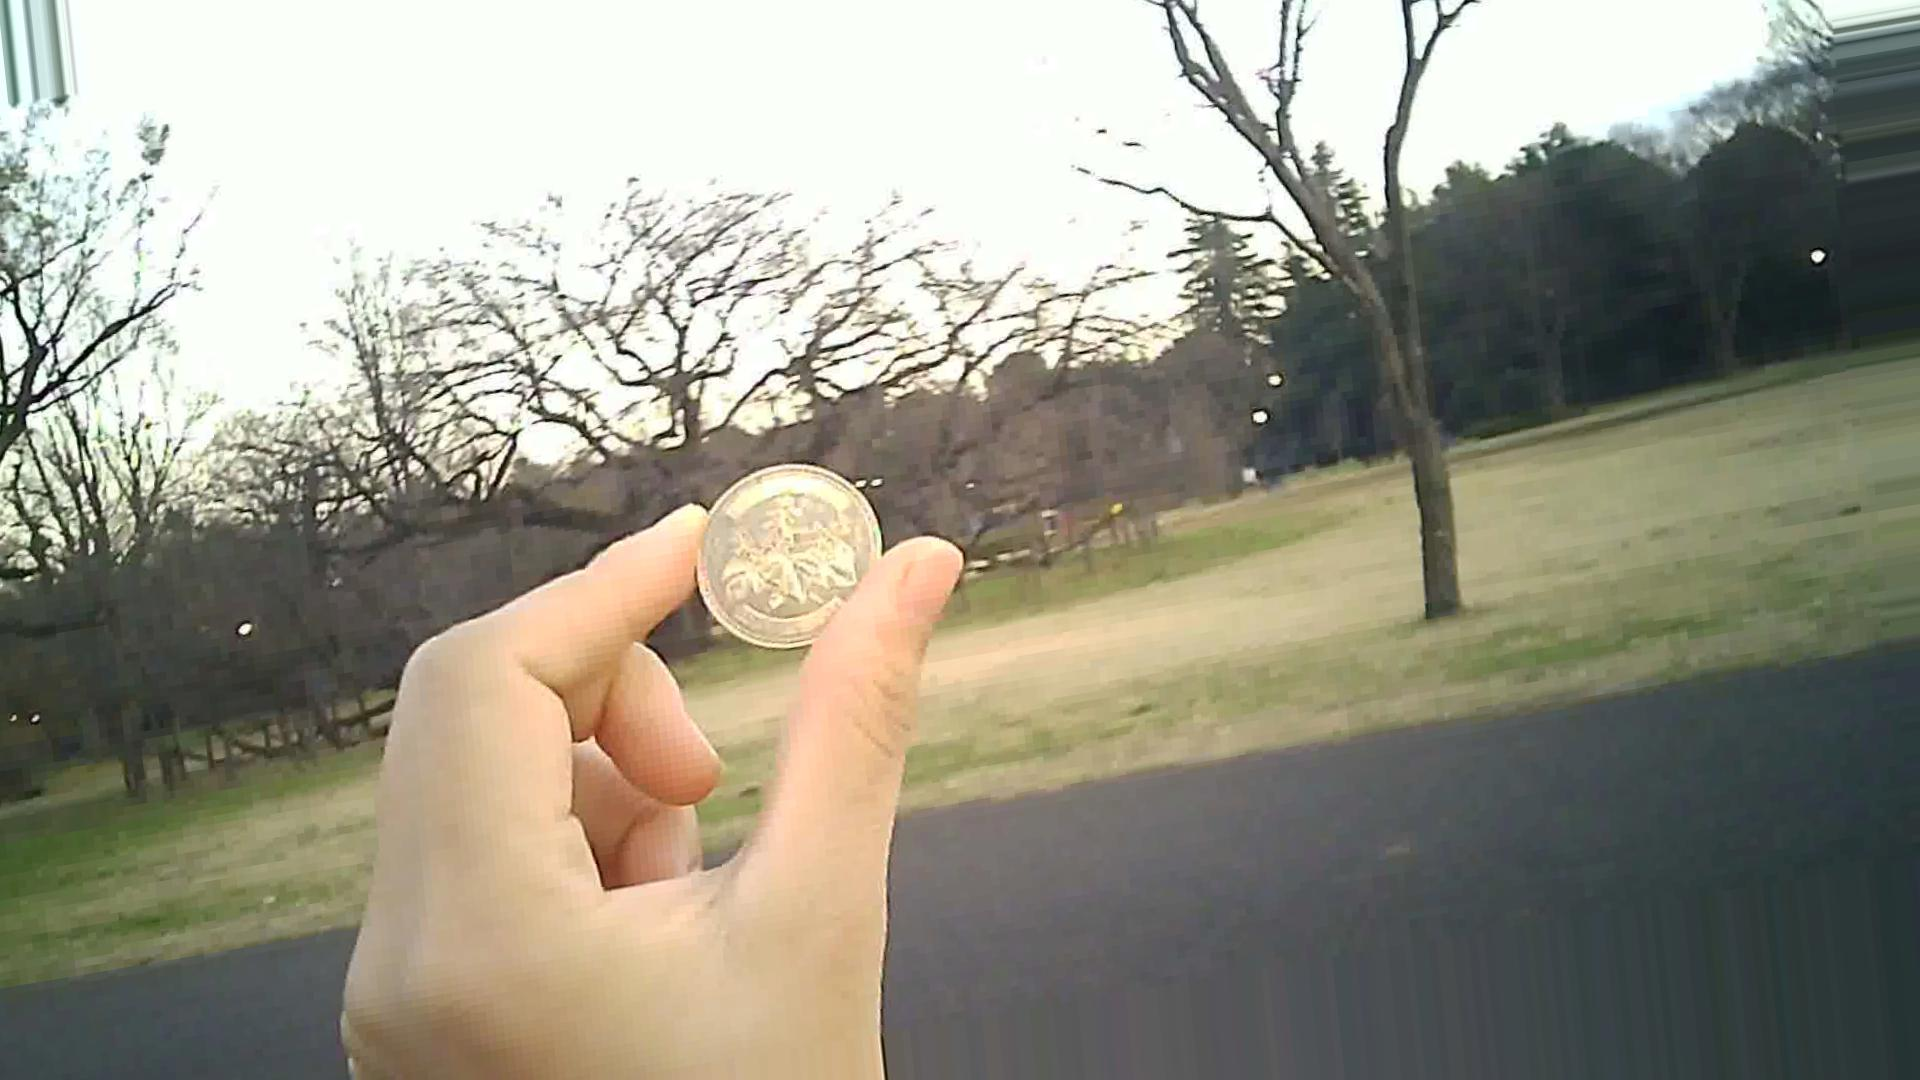500 Yen: (682, 454, 865, 640)
